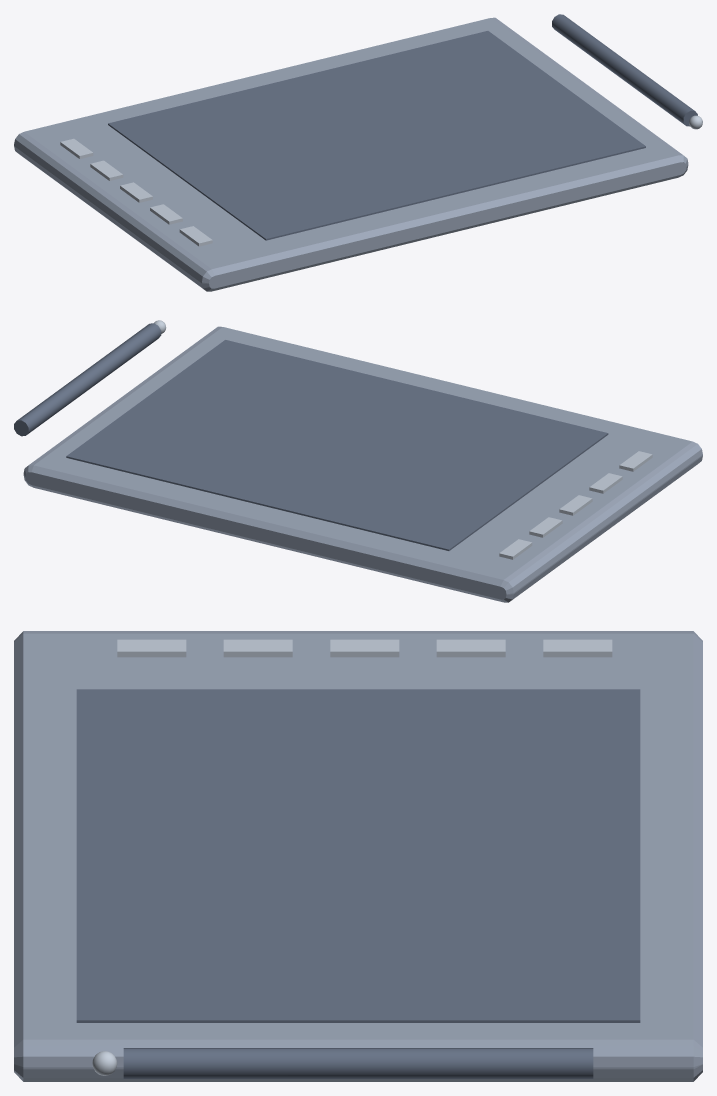
The model's file is drawing-tablet.glb.
3 renders of one model, top to bottom at view 1: azimuth 30°, elevation 25°; view 2: azimuth 150°, elevation 25°; view 3: azimuth 270°, elevation 25°, orthographic. The views are drawn at different scales.
Parts seen in each view (by area): view 1: dark, body, light; view 2: dark, body, light; view 3: dark, body, light.
Part boxes in pixels (left/top/right/bottom): dark: left=108, top=14, right=697, bottom=240; body: left=14, top=17, right=688, bottom=291; light: left=60, top=115, right=702, bottom=246; dark: left=14, top=323, right=608, bottom=550; body: left=23, top=326, right=702, bottom=602; light: left=154, top=320, right=652, bottom=559; dark: left=76, top=689, right=640, bottom=1078; body: left=14, top=631, right=702, bottom=1081; light: left=92, top=639, right=612, bottom=1075.
Size of the model in its own units: 0.3448 by 0.023 by 0.22.
